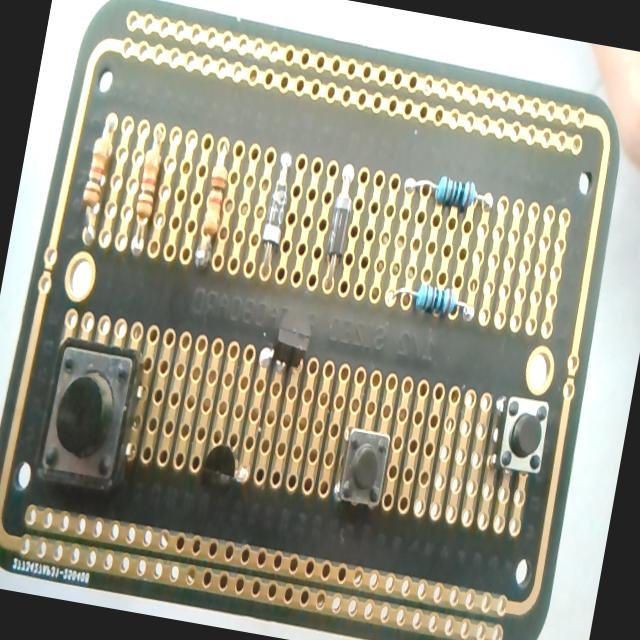diode: (252, 151, 296, 280), (318, 164, 358, 288)
resistor: (75, 118, 118, 246), (190, 148, 233, 274), (377, 276, 481, 327), (125, 136, 165, 258), (404, 168, 494, 213)
switch: (36, 340, 140, 489), (490, 392, 552, 478), (333, 426, 392, 510)
transistor: (254, 315, 313, 381), (198, 441, 252, 491)
